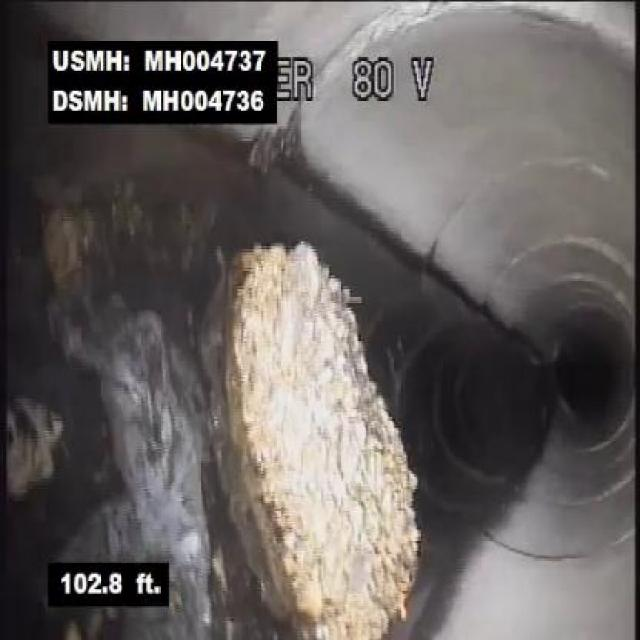Obstacle: (200, 212, 468, 638)
